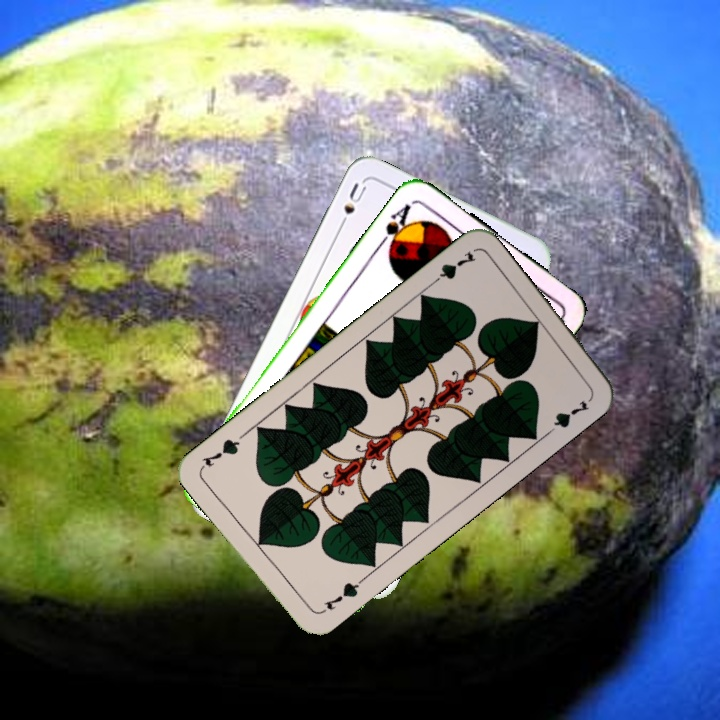G7: (425, 247, 479, 289), (316, 575, 366, 617)
SA: (374, 199, 416, 256)
SU: (334, 178, 369, 233)
